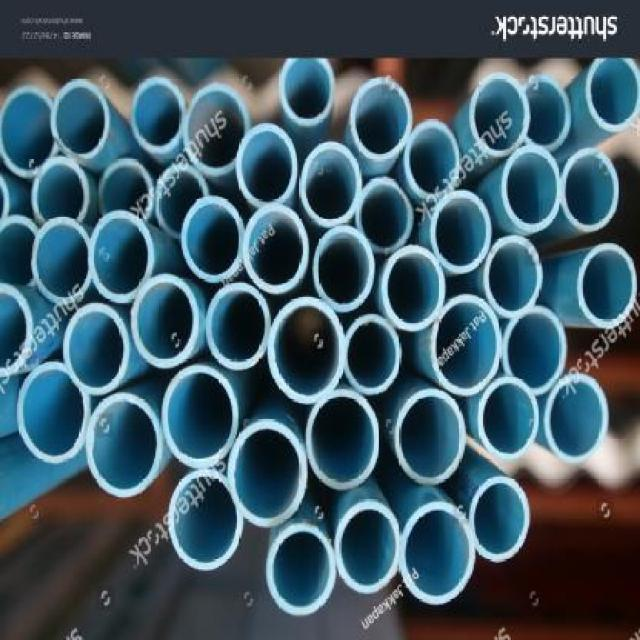pipe: (228, 420, 308, 528), (269, 296, 346, 405), (399, 500, 476, 605), (86, 392, 163, 497), (162, 363, 239, 468), (168, 469, 243, 571), (17, 360, 91, 463), (305, 389, 379, 489), (429, 295, 502, 394), (394, 389, 467, 486), (265, 523, 336, 617), (131, 274, 199, 370), (63, 303, 131, 396), (336, 500, 402, 593), (89, 211, 154, 304), (183, 81, 248, 174), (205, 282, 271, 373), (242, 205, 308, 293), (543, 374, 608, 463), (502, 308, 567, 396), (380, 245, 445, 331), (0, 85, 60, 178), (348, 79, 413, 162), (182, 197, 245, 282), (299, 142, 362, 227), (477, 374, 539, 460), (31, 215, 91, 303), (429, 189, 491, 274), (469, 72, 531, 157), (503, 145, 562, 233), (469, 477, 529, 563), (577, 243, 637, 329), (314, 226, 374, 312), (483, 234, 543, 317), (236, 124, 297, 205), (560, 150, 619, 233), (403, 119, 460, 202), (51, 80, 110, 160), (345, 314, 402, 396), (354, 176, 412, 256), (131, 75, 185, 154), (585, 59, 640, 133), (31, 157, 90, 223), (280, 59, 336, 127), (520, 74, 569, 151)
